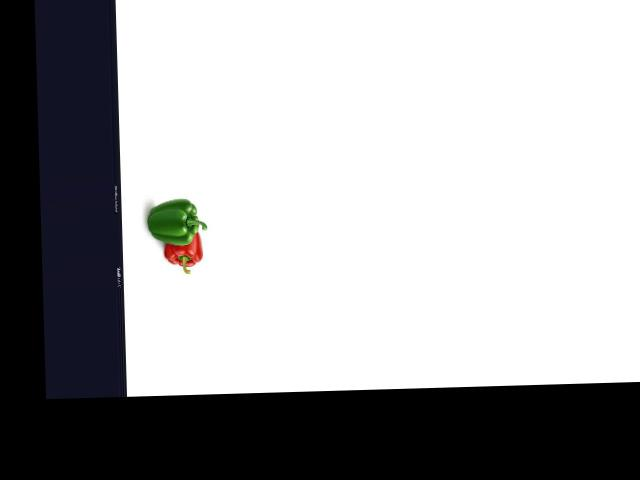bell_pepper: (164, 230, 208, 274)
